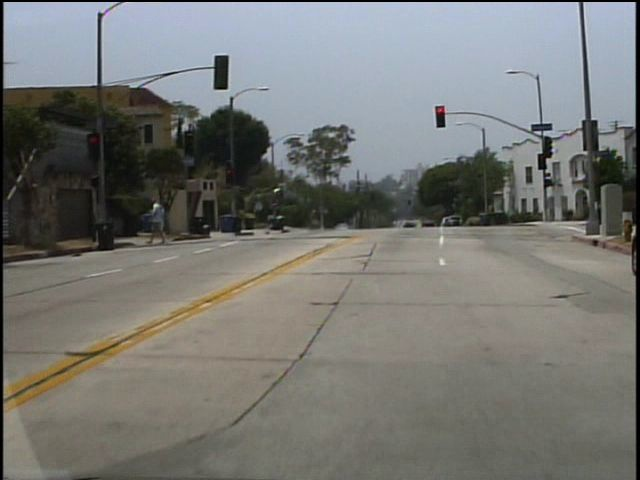person: (152, 195, 173, 244), (160, 200, 173, 244)
